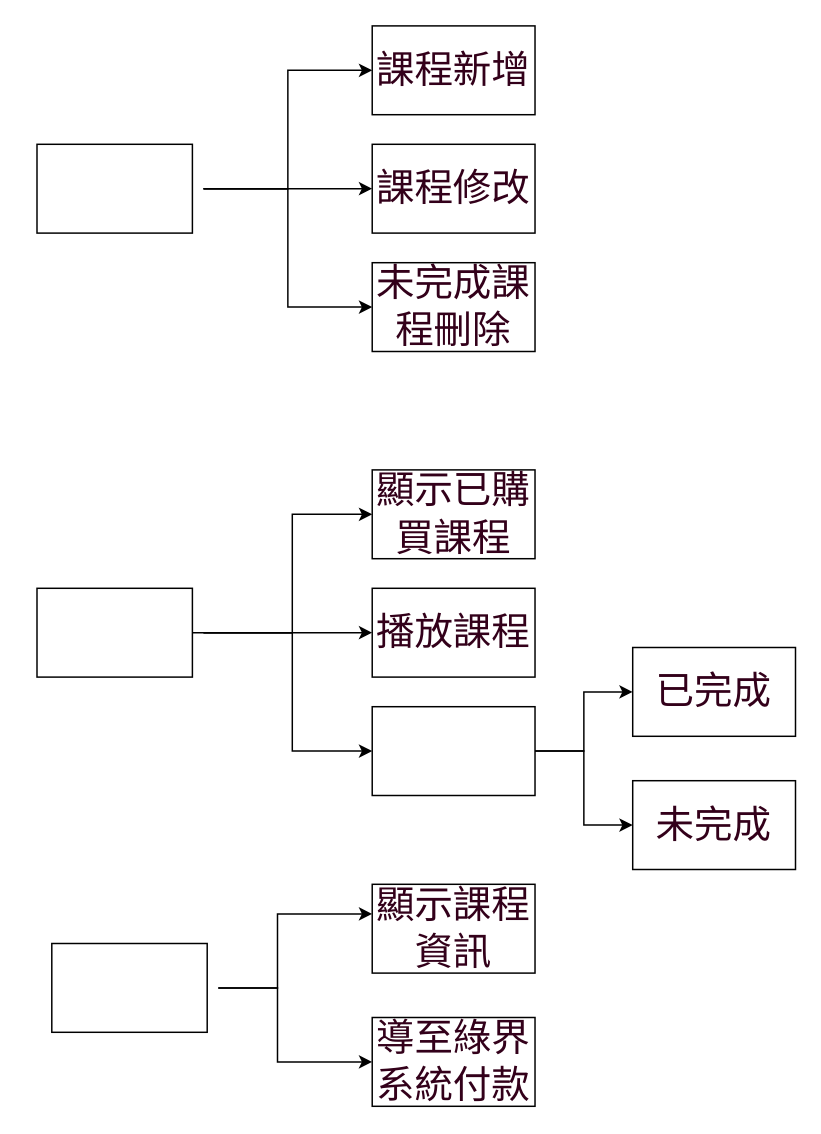
Image size: 821x1134. Some labels were removed from this diagram. The box of each missing label's shape, as (x1, y1, x2, y2) in pixels:
學生頁面: (36, 587, 192, 677)
後臺頁面: (36, 143, 192, 233)
管理課程: (371, 705, 535, 796)
購買頁面: (50, 942, 207, 1032)
